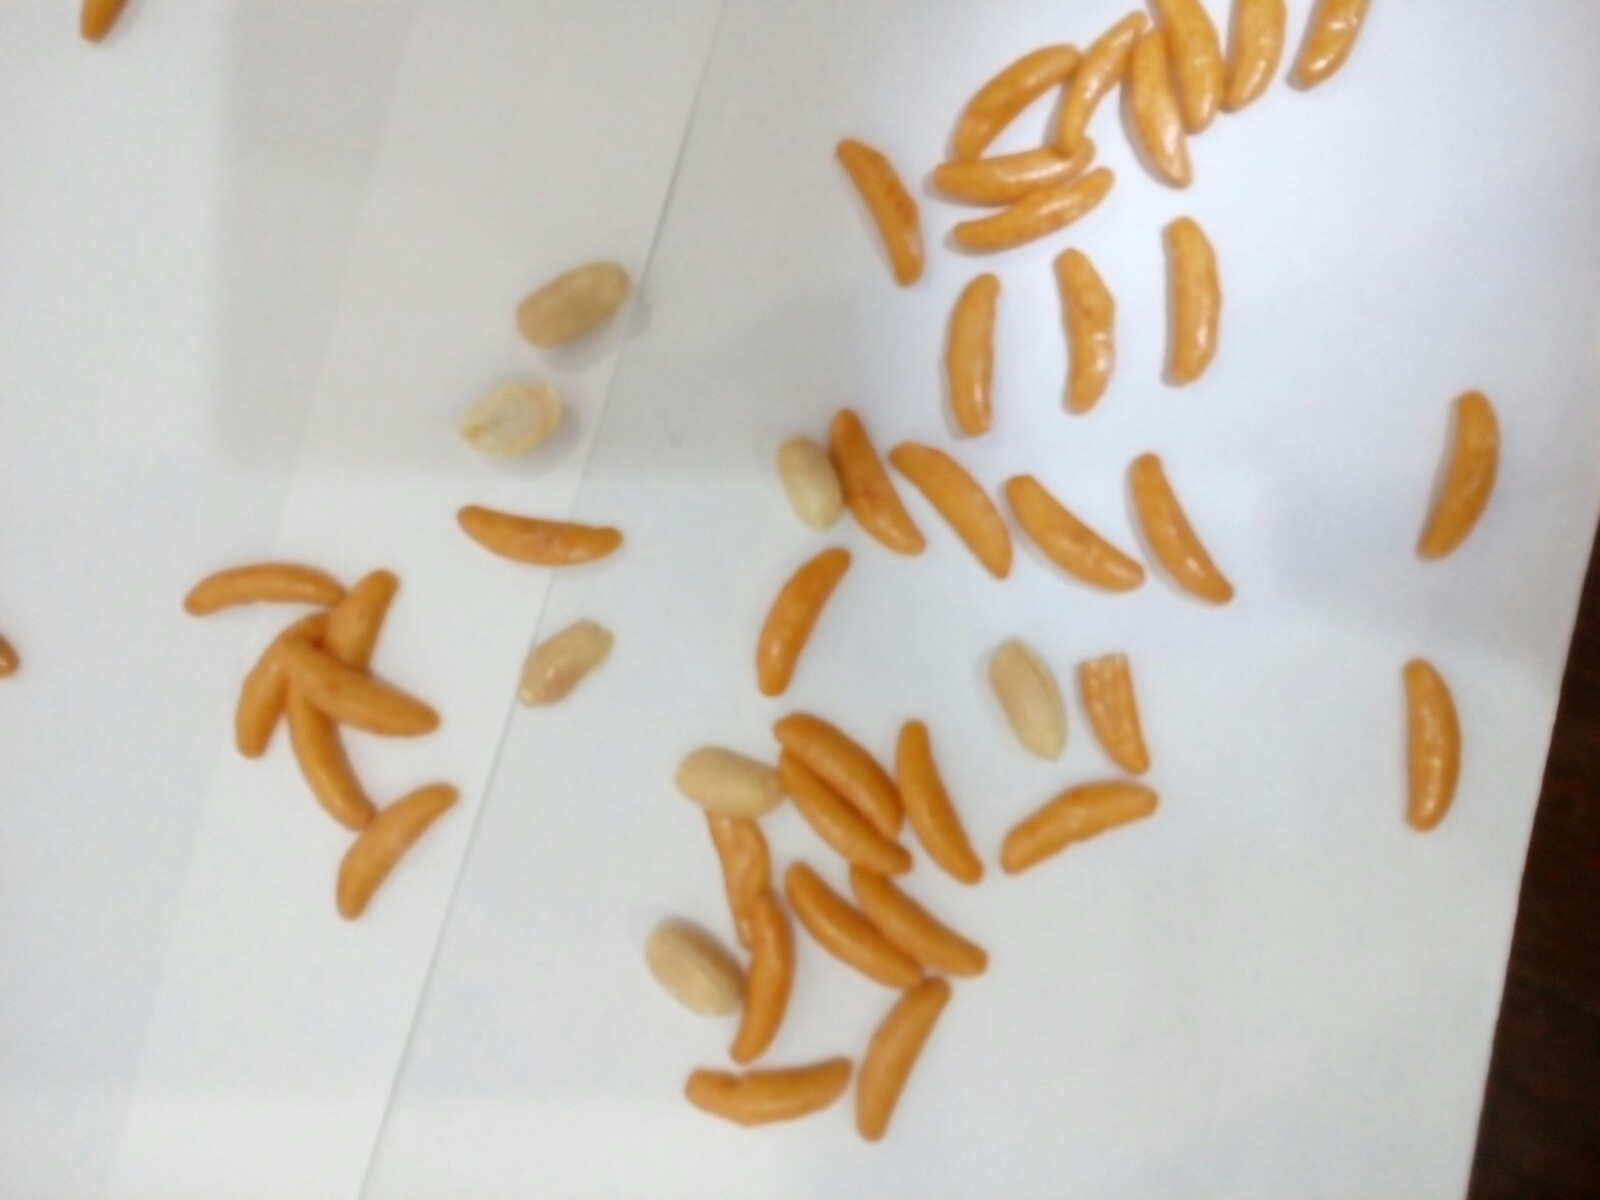peanut: (654, 887, 756, 1025), (976, 630, 1076, 768), (517, 606, 621, 715), (517, 250, 632, 339), (671, 731, 789, 814), (467, 366, 567, 458), (771, 420, 850, 534)
